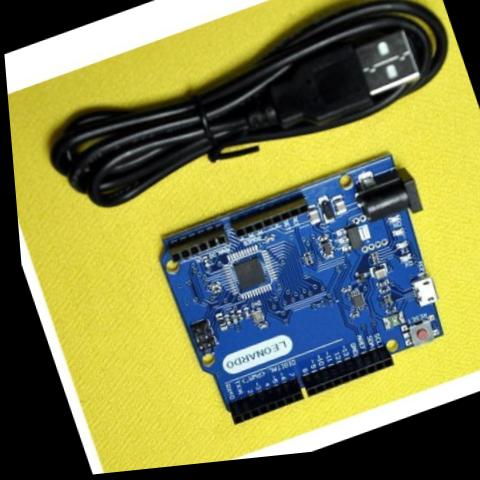Arduino-Leonardo: (130, 141, 472, 448)
